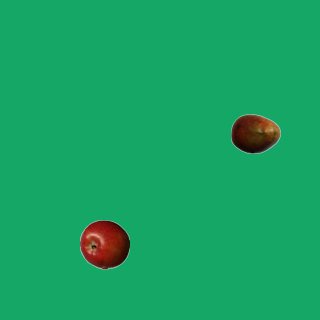Apple Braeburn: (79, 219, 129, 269)
Mango Red: (230, 108, 280, 158)
